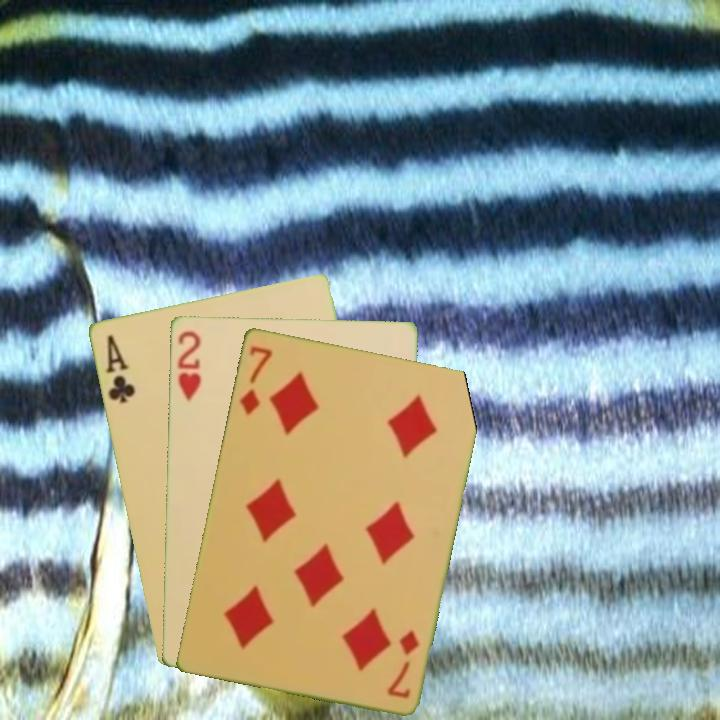2h: (174, 327, 203, 404)
7d: (236, 342, 275, 418), (383, 625, 422, 701)
Ac: (102, 330, 138, 406)
